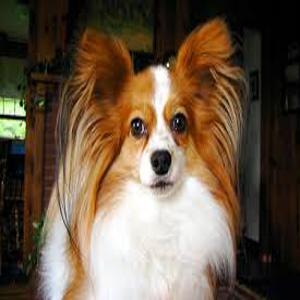yell: (39, 17, 244, 300)
